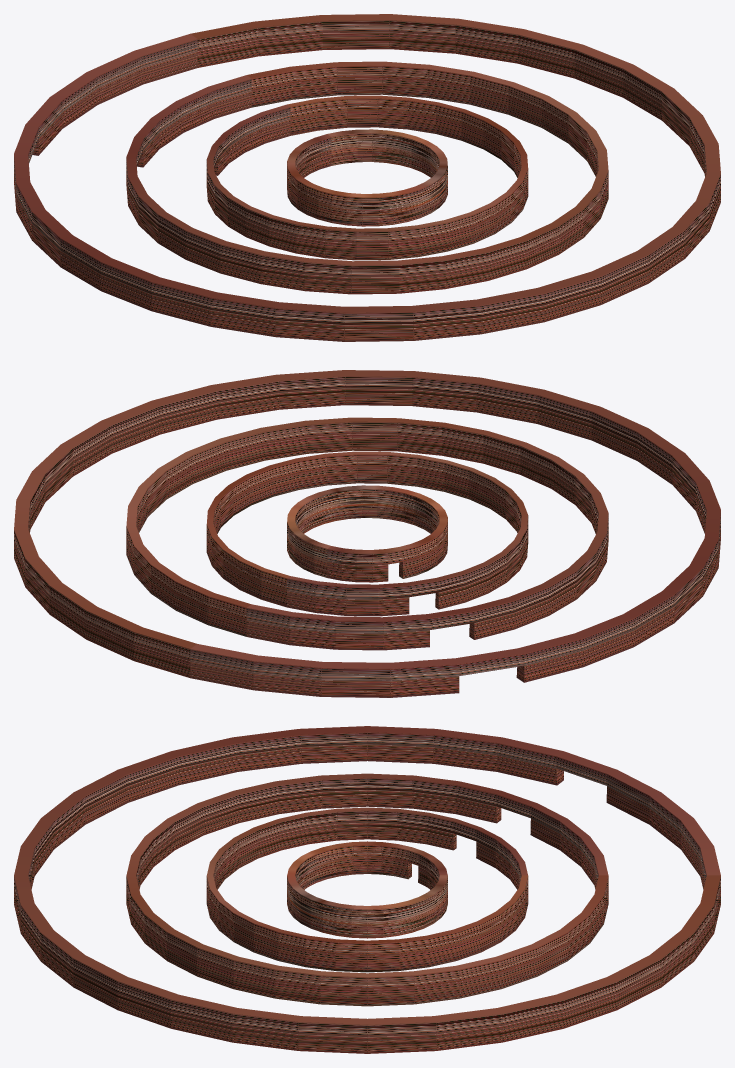
File: Maze.fbx
3 renders of one model, top to bottom at view 1: azimuth 30°, elevation 25°; view 2: azimuth 150°, elevation 25°; view 3: azimuth 270°, elevation 25°, orthographic.
Visible parts, largest first — view 1: Cylinder.003, Cylinder.002, Cylinder.001, Cylinder; view 2: Cylinder.003, Cylinder.002, Cylinder.001, Cylinder; view 3: Cylinder.003, Cylinder.002, Cylinder.001, Cylinder.
Part boxes in pixels (box(x1,y1,x2,y2)): Cylinder.003: box(14, 14, 720, 341); Cylinder.002: box(126, 61, 608, 294); Cylinder.001: box(206, 95, 528, 260); Cylinder: box(287, 129, 447, 226); Cylinder.003: box(14, 370, 720, 697); Cylinder.002: box(126, 417, 608, 650); Cylinder.001: box(206, 451, 528, 616); Cylinder: box(287, 485, 447, 582); Cylinder.003: box(14, 726, 720, 1053); Cylinder.002: box(126, 773, 608, 1006); Cylinder.001: box(206, 807, 528, 972); Cylinder: box(287, 841, 447, 938).
Bounding box in the file's own units: 4400 × 200 × 4400.
4 materials, 4 textured.
